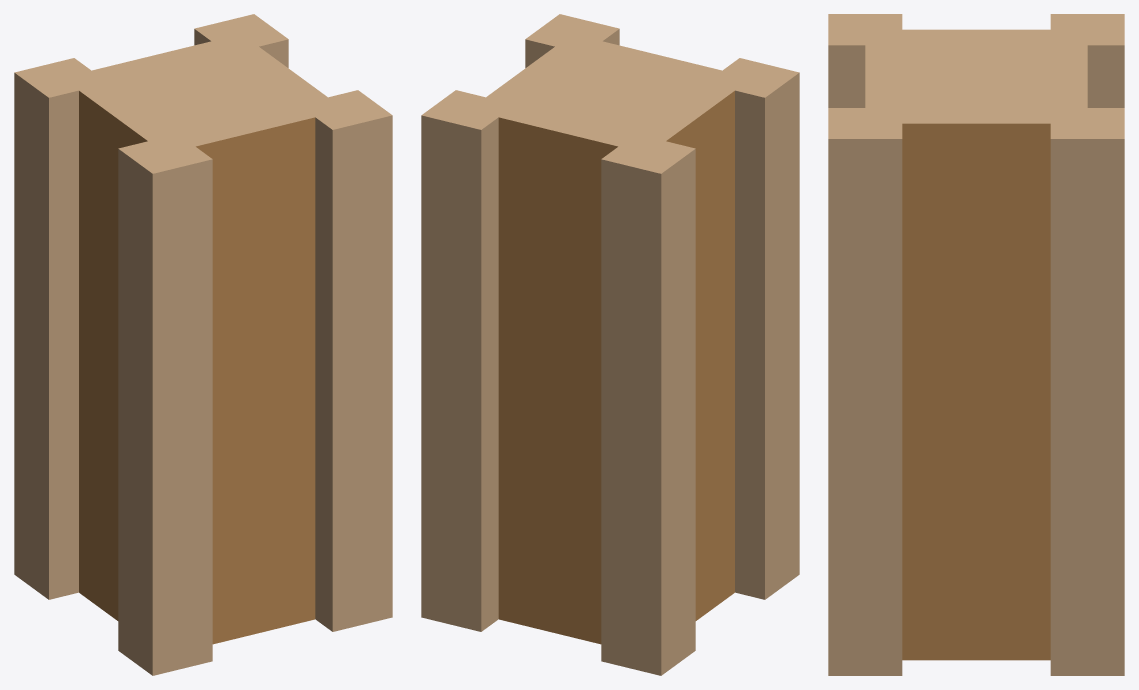
File: Puzzle_Sliding_Pillar_Platform_Top.fbx
3 views of the same model, side by side, from view 1: azimuth 30°, elevation 25°; view 2: azimuth 150°, elevation 25°; view 3: azimuth 270°, elevation 25° (orthographic). The views are drawn at different scales.
Parts seen in each view (by area): view 1: Sandstone_4.Sandstone_4.Sandstone_4.Sandstone_4.object1, Sandstone_6.Sandstone_6.Sandstone_6.Sandstone_6; view 2: Sandstone_4.Sandstone_4.Sandstone_4.Sandstone_4.object1, Sandstone_6.Sandstone_6.Sandstone_6.Sandstone_6; view 3: Sandstone_4.Sandstone_4.Sandstone_4.Sandstone_4.object1, Sandstone_6.Sandstone_6.Sandstone_6.Sandstone_6.
Boxes of the visible parts, left/top/right/bottom form: Sandstone_4.Sandstone_4.Sandstone_4.Sandstone_4.object1: left=14, top=14, right=392, bottom=675; Sandstone_6.Sandstone_6.Sandstone_6.Sandstone_6: left=79, top=91, right=315, bottom=644; Sandstone_4.Sandstone_4.Sandstone_4.Sandstone_4.object1: left=421, top=14, right=799, bottom=675; Sandstone_6.Sandstone_6.Sandstone_6.Sandstone_6: left=498, top=91, right=734, bottom=644; Sandstone_4.Sandstone_4.Sandstone_4.Sandstone_4.object1: left=828, top=14, right=1124, bottom=675; Sandstone_6.Sandstone_6.Sandstone_6.Sandstone_6: left=902, top=123, right=1050, bottom=660.
Bounding box in the file's own units: 0.4 × 0.8 × 0.4.
